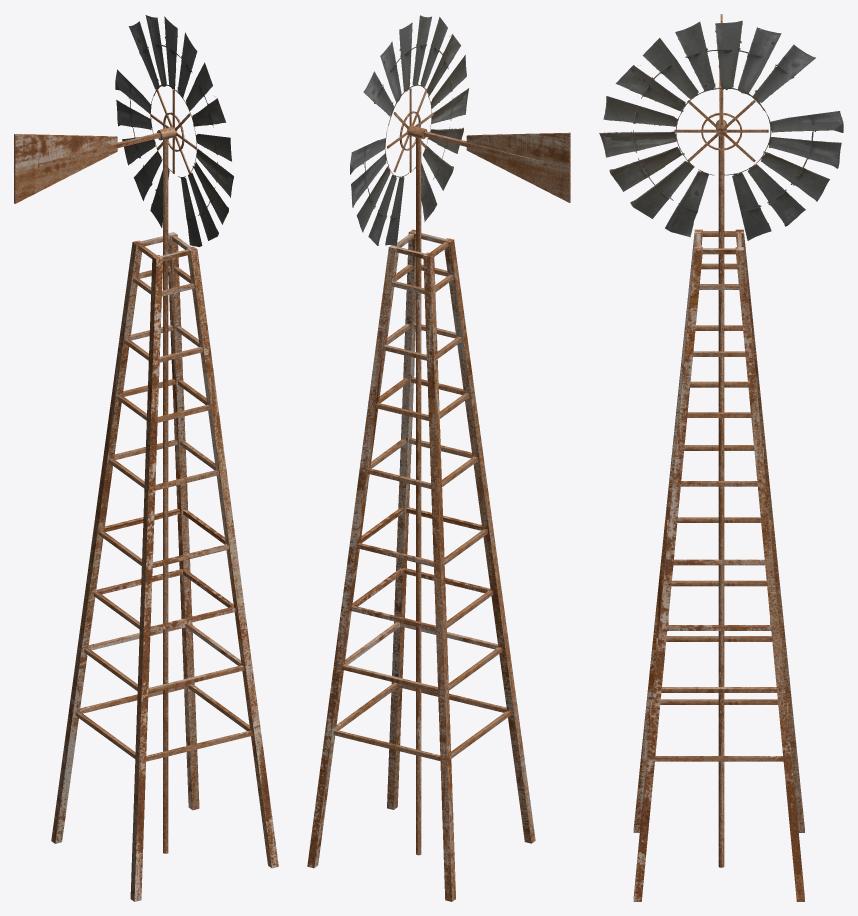
Rendered from windmill_wings.fbx.
The picture shows the model from 3 angles, left to right: view 1: azimuth 30°, elevation 25°; view 2: azimuth 150°, elevation 25°; view 3: azimuth 270°, elevation 25°; orthographic projection. The views are drawn at different scales.
Parts seen in each view (by area): view 1: windmile_body1, wings2; view 2: windmile_body1, wings2; view 3: windmile_body1, wings2.
Boxes of the visible parts, x1,y1,x2,y2 form: windmile_body1: [14, 127, 278, 901]; wings2: [115, 15, 233, 246]; windmile_body1: [307, 125, 570, 901]; wings2: [350, 15, 469, 246]; windmile_body1: [633, 14, 804, 901]; wings2: [599, 20, 843, 240].
Size of the model in its own units: 3.22 by 11.5 by 3.
